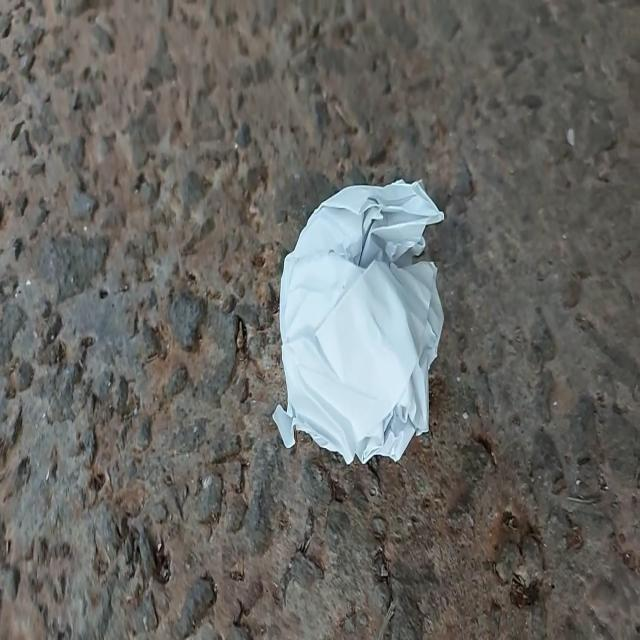Paper: (243, 152, 471, 475)
